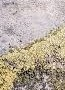Corrosion: (1, 25, 65, 90)
